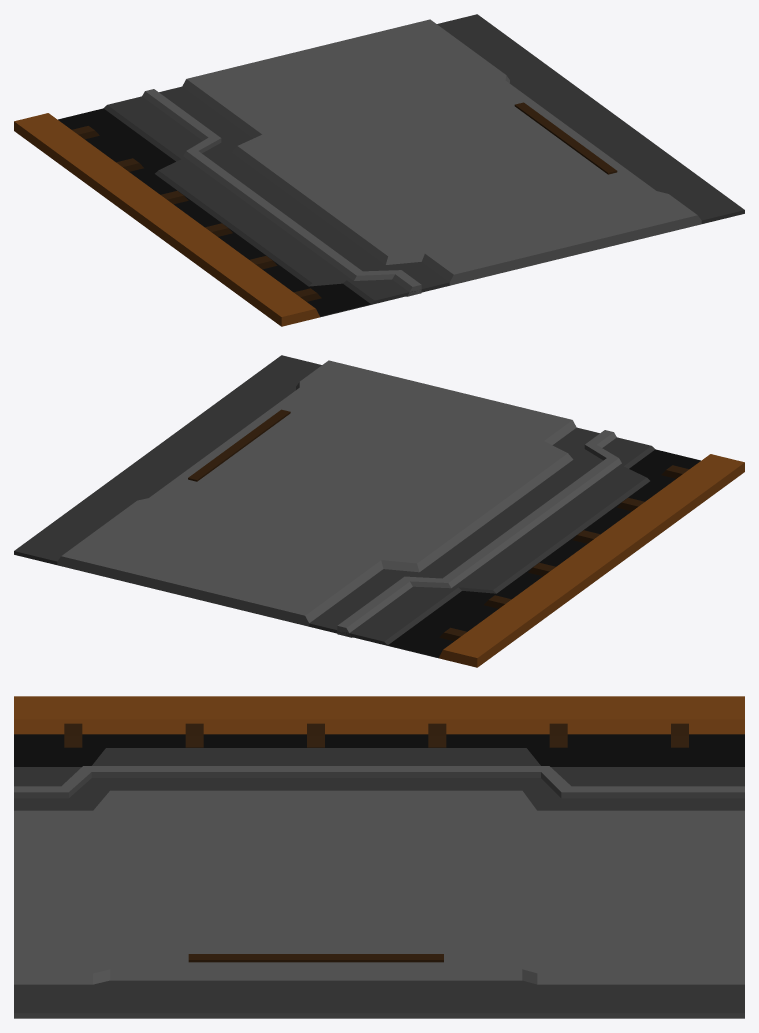
Rendered from FloorTile_Side.obj.
3 views of the same model, one above another, from view 1: azimuth 30°, elevation 25°; view 2: azimuth 150°, elevation 25°; view 3: azimuth 270°, elevation 25° (orthographic). The views are drawn at different scales.
Visible parts, largest first — view 1: FloorTile_Side_Plane.001; view 2: FloorTile_Side_Plane.001; view 3: FloorTile_Side_Plane.001.
Boxes of the visible parts, x1,y1,x2,y2 form: FloorTile_Side_Plane.001: (14, 14, 744, 326); FloorTile_Side_Plane.001: (14, 355, 744, 667); FloorTile_Side_Plane.001: (14, 696, 744, 1018).
Size of the model in its own units: 2 by 0.0685 by 2.
